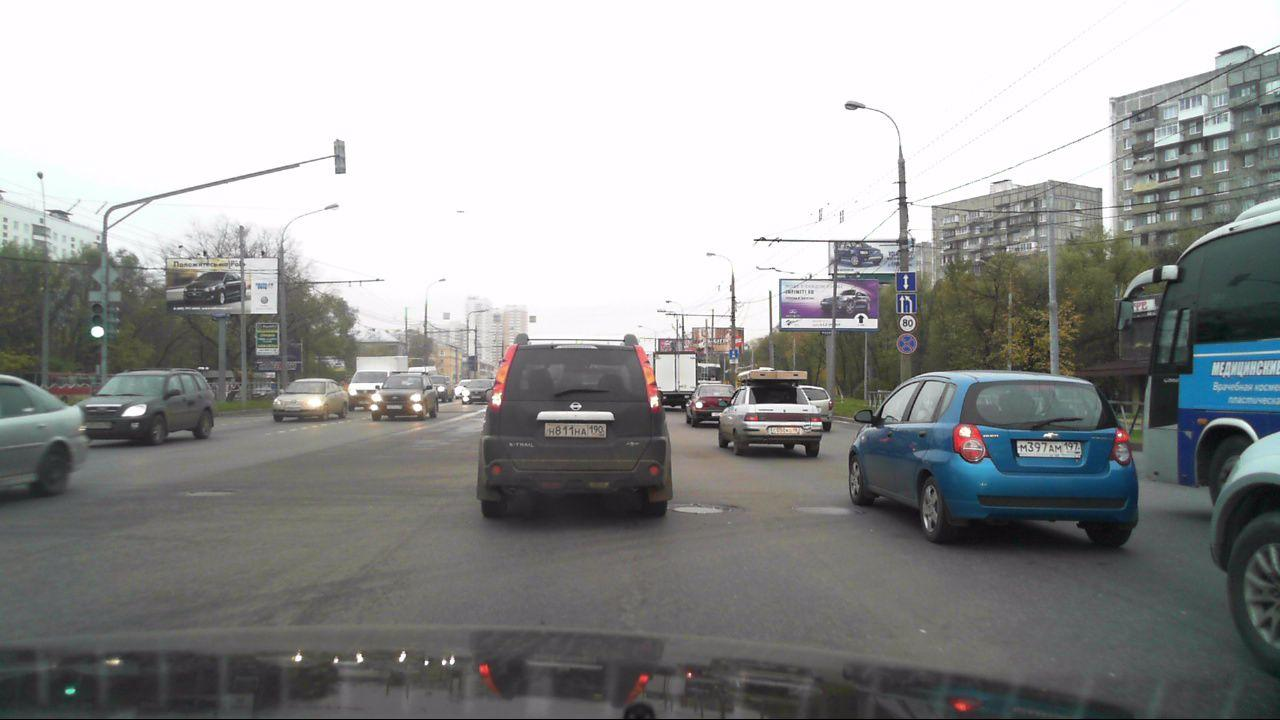3_24: (898, 316, 917, 332)
3_27: (896, 332, 918, 354)
5_14_1: (730, 349, 738, 358)
5_15_5: (896, 293, 917, 314)
5_8: (895, 271, 916, 292)
8_5_2: (729, 359, 738, 365)
